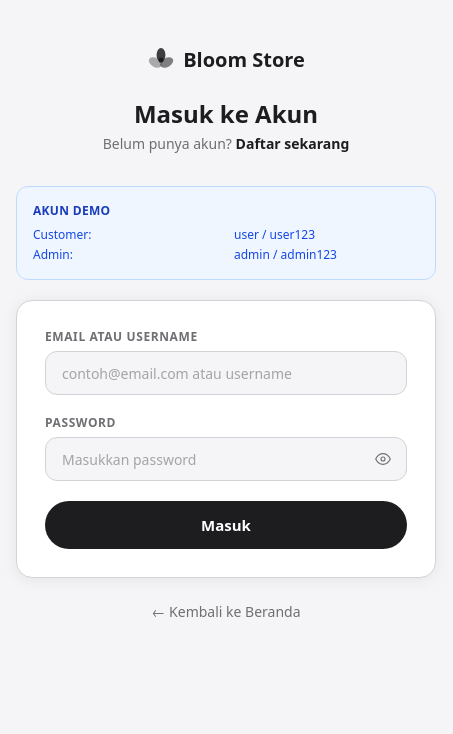
TC-UI: Modul Autentikasi › TC-UI-07: Register gagal jika password konfirmasi tidak cocok
Click the button "Daftar sekarang" at (293, 144), box [236,134,350,154]
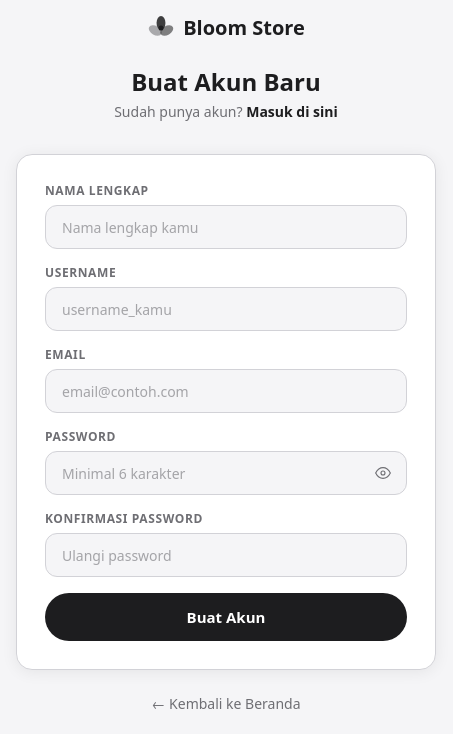
Type "Test User" into the field with placeholder "Nama lengkap kamu" at (226, 227), box [45,205,407,249]
Type "test@example.com" into the field with placeholder "email@contoh.com" at (226, 391), box [45,369,407,413]
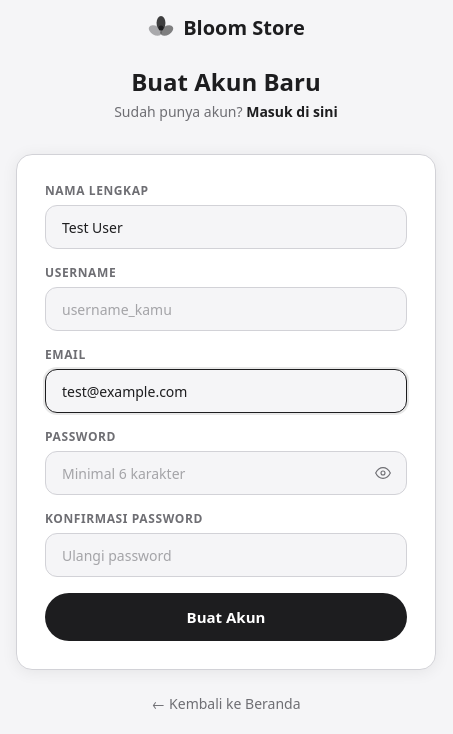
Type "testuser123" into the field with placeholder "username_kamu" at (226, 309), box [45,287,407,331]
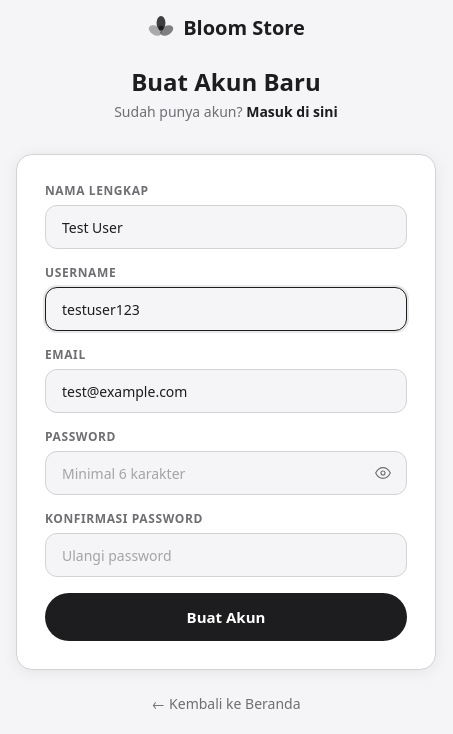
Type "password123" into the password field with placeholder "Minimal 6 karakter" at (226, 473), box [45,451,407,495]
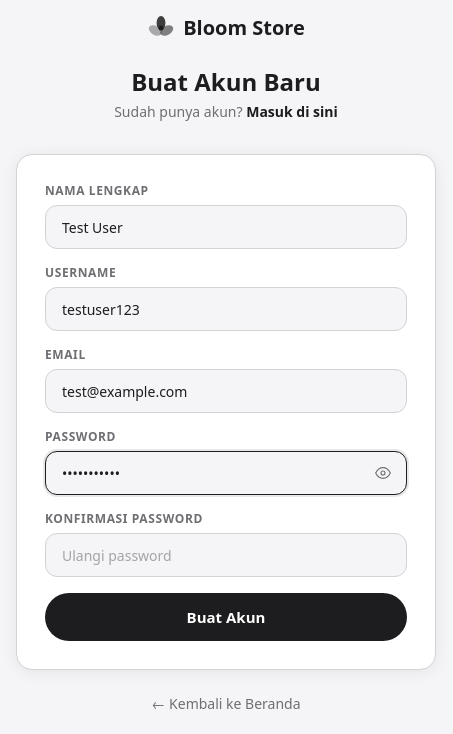
Type "DIFFERENT_PASSWORD" into the password field with placeholder "Ulangi password" at (226, 555), box [45,533,407,577]
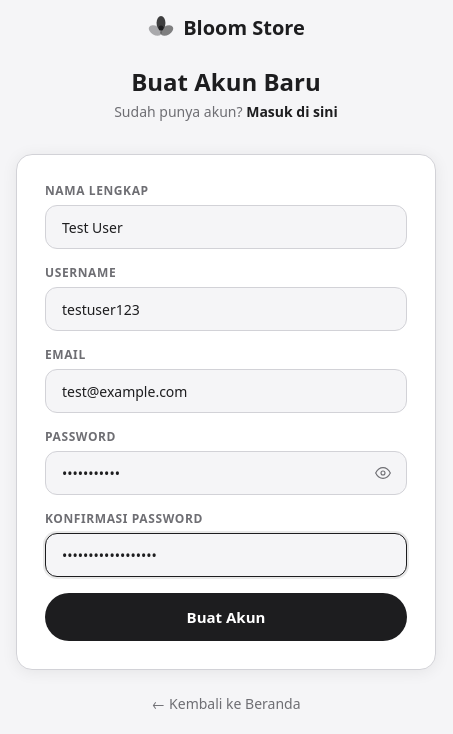
Click the submit button at (226, 617), box [45,593,407,641]
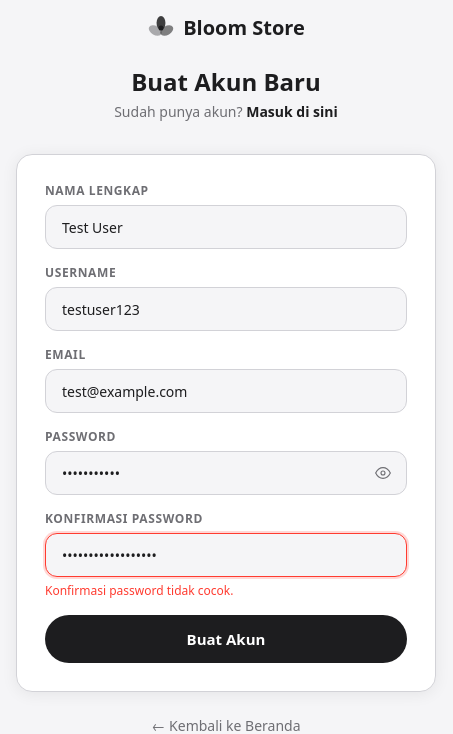
Expected: the text "tidak cocok" is shown, [45,582,233,599]
